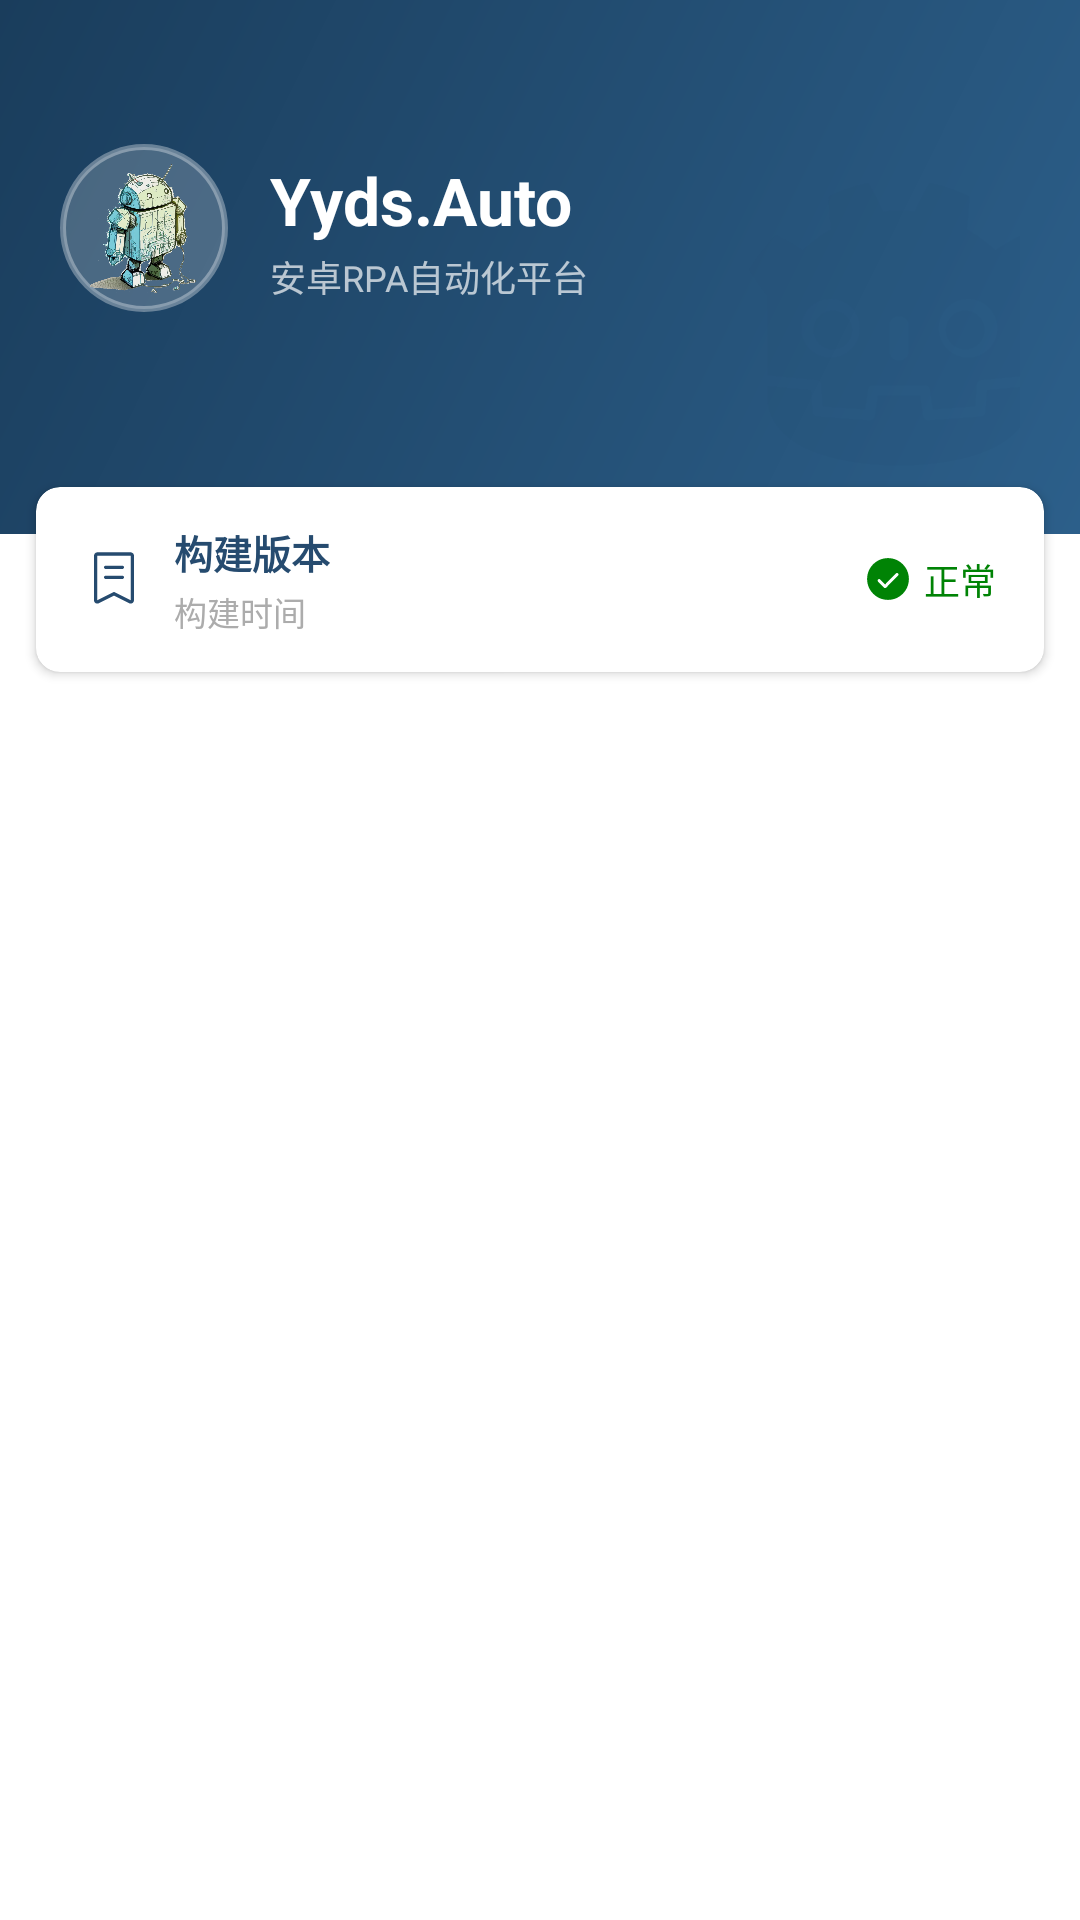

Named icons in this screenshot (1080px x 1920px) and their centers, [x,y]:
check: [888,579]
label: [114,578]
